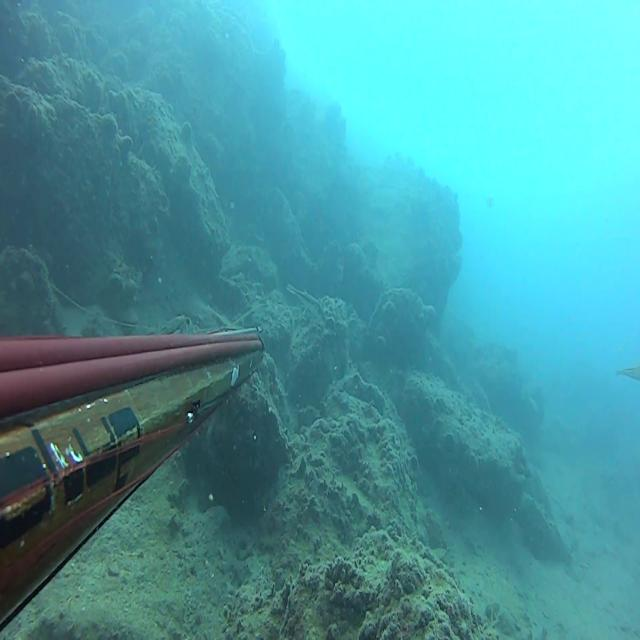Balon Baligi: (286, 284, 324, 322), (160, 318, 193, 335), (617, 365, 640, 381)
